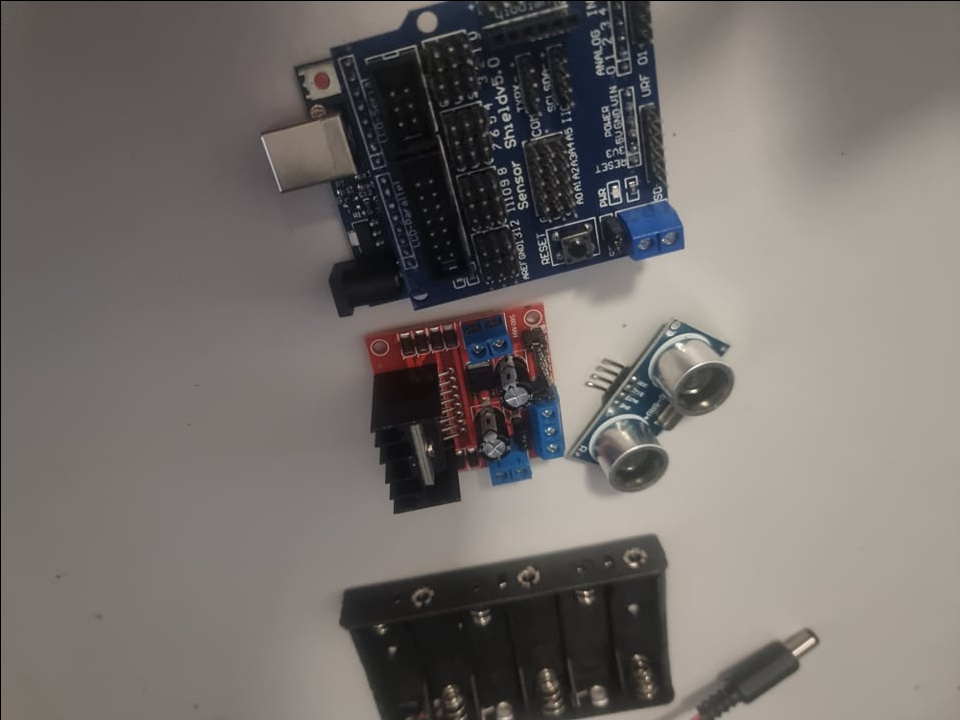5V EXPANSION: (396, 0, 696, 304)
BATTERY BOX: (340, 528, 686, 717)
MOTOR: (349, 311, 563, 511)
SENSOR: (571, 313, 739, 500)
UNO R3: (248, 33, 386, 331)
